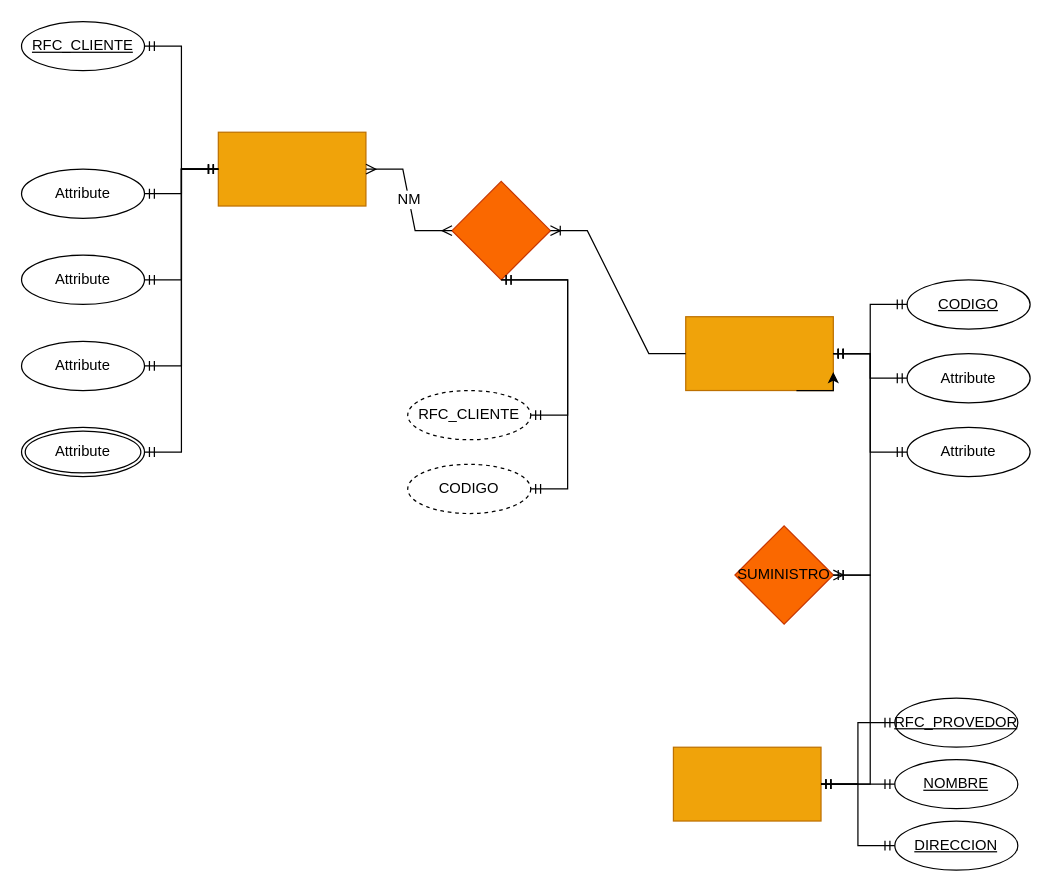
Image size: 1052x892. Some labels were removed from this diagram. The centre of each missing label's shape, as x and y in pixels:
CLIENTE: point 291,168
COMPRA: point 500,230
PRODUCTO: point 758,353
PROVEDOR: point 746,783
